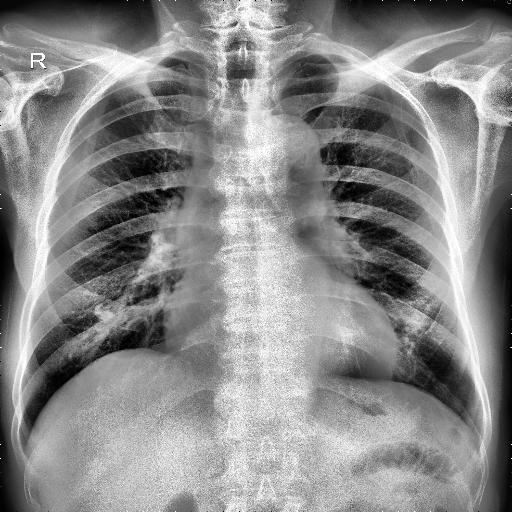0- Aortic enlargement: (260, 116, 322, 192), (252, 114, 318, 166), (262, 114, 320, 166)
3- Cardiomegaly: (163, 291, 397, 374)
